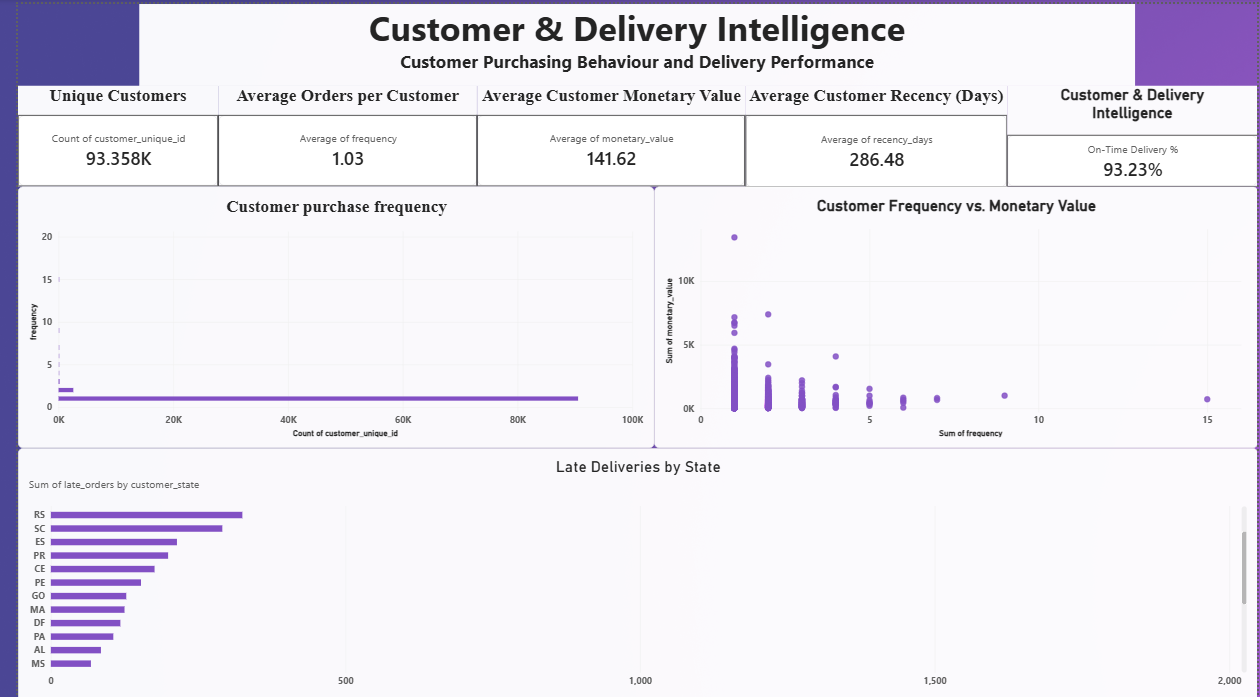

The dashboard page shown, as its layout file describes it:
{"tool":"powerbi","page":{"name":"Customer & Delivery Intelligence","canvas":[1920,1080],"ordinal":1},"visuals":[{"type":"cardVisual","title":"Unique Customers","fields":{"Data":["Count(vw_customer_rfm.customer_unique_id)"]},"box":[0,126.7,310.3,156.2],"z":0},{"type":"cardVisual","title":"Average Orders per Customer","fields":{"Data":["Avg(vw_customer_rfm.frequency)"]},"box":[310.3,126.7,401.1,156.2],"z":1000},{"type":"cardVisual","title":"Average Customer Monetary Value","fields":{"Data":["Avg(vw_customer_rfm.monetary_value)"]},"box":[711.4,126.7,415.8,156.2],"z":2000},{"type":"cardVisual","title":"Average Customer Recency (Days)","fields":{"Data":["Avg(vw_customer_rfm.recency_days)"]},"box":[1127.2,126.7,405.3,158.3],"z":3000},{"type":"clusteredBarChart","title":"Customer purchase frequency","fields":{"Category":["vw_customer_rfm.frequency"],"Y":["Count(vw_customer_rfm.customer_unique_id)"]},"box":[0,282.9,985.8,405.3],"z":4000},{"type":"scatterChart","title":"Customer Frequency vs. Monetary Value","fields":{"Category":["vw_customer_rfm.customer_unique_id"],"X":["Sum(vw_customer_rfm.frequency)"],"Y":["Sum(vw_customer_rfm.monetary_value)"]},"box":[985.8,282.9,935.1,405.3],"z":5000},{"type":"clusteredBarChart","title":"Late Deliveries by State","fields":{"Category":["vw_state_delivery_performance.customer_state"],"Y":["Sum(vw_state_delivery_performance.late_orders)"]},"box":[0,688.1,1920.9,392.6],"z":6000},{"type":"cardVisual","title":"Customer & Delivery Intelligence","fields":{"Data":["vw_state_delivery_performance.On-Time Delivery %"]},"box":[1532.5,126.7,388.4,156.2],"z":6001},{"type":"textbox","box":[187.9,0,1543,126.7],"z":6002}]}

Visuals, with their boxes in screenshot pixels (x1, y1, x2, y2), scaled from the page's 1920x1080 canvas onto the 1260x697 screenshot:
"Unique Customers" cardVisual: pyautogui.locateOnScreen(0, 82, 204, 183)
"Average Orders per Customer" cardVisual: pyautogui.locateOnScreen(204, 82, 467, 183)
"Average Customer Monetary Value" cardVisual: pyautogui.locateOnScreen(467, 82, 740, 183)
"Average Customer Recency (Days)" cardVisual: pyautogui.locateOnScreen(740, 82, 1006, 184)
"Customer purchase frequency" clusteredBarChart: pyautogui.locateOnScreen(0, 183, 647, 444)
"Customer Frequency vs. Monetary Value" scatterChart: pyautogui.locateOnScreen(647, 183, 1259, 444)
"Late Deliveries by State" clusteredBarChart: pyautogui.locateOnScreen(0, 444, 1259, 696)
"Customer & Delivery Intelligence" cardVisual: pyautogui.locateOnScreen(1006, 82, 1259, 183)
textbox: pyautogui.locateOnScreen(123, 0, 1136, 82)
